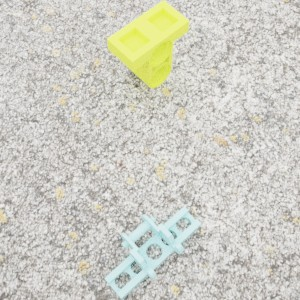lego: (104, 206, 201, 300), (106, 0, 189, 88)
